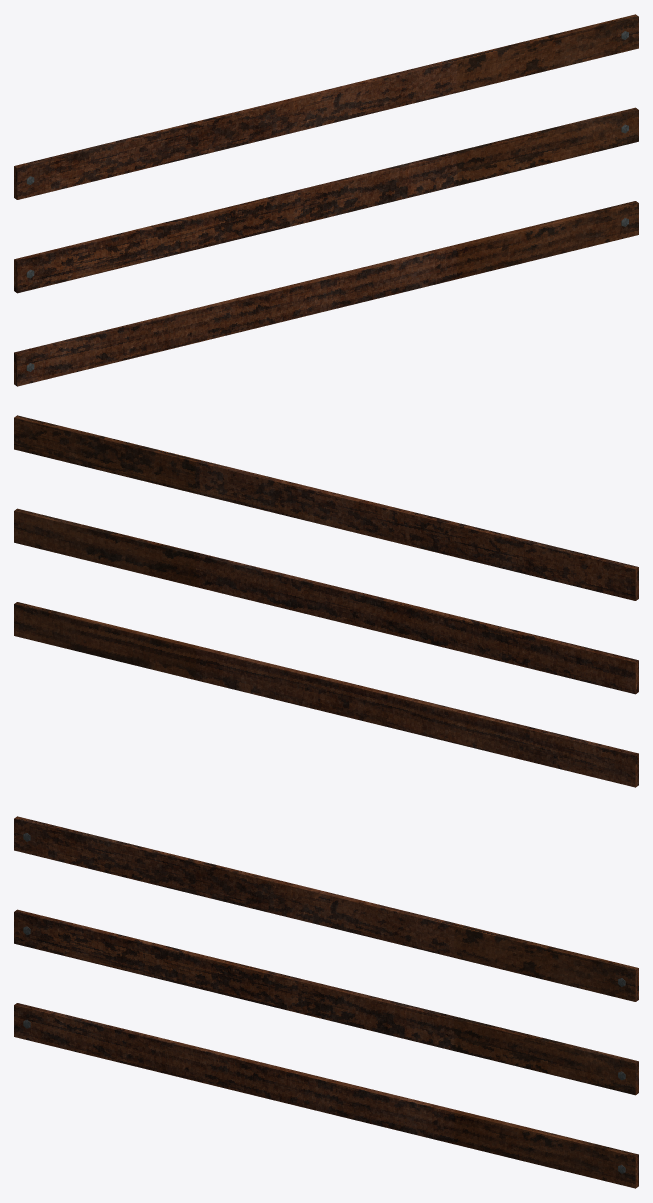
The model's file is Fence1.glb.
The picture shows the model from 3 angles, top to bottom: view 1: azimuth 30°, elevation 25°; view 2: azimuth 150°, elevation 25°; view 3: azimuth 330°, elevation 25°; orthographic projection.
Visible parts, largest first — view 1: Fence1; view 2: Fence1; view 3: Fence1.
Boxes of the visible parts, x1,y1,x2,y2 form: Fence1: (14,14,638,386); Fence1: (14,415,638,787); Fence1: (14,816,638,1188).
Bounding box in the file's own units: 2.09 × 0.7021 × 0.0202.
Materials: 1 (1 with a texture image).
